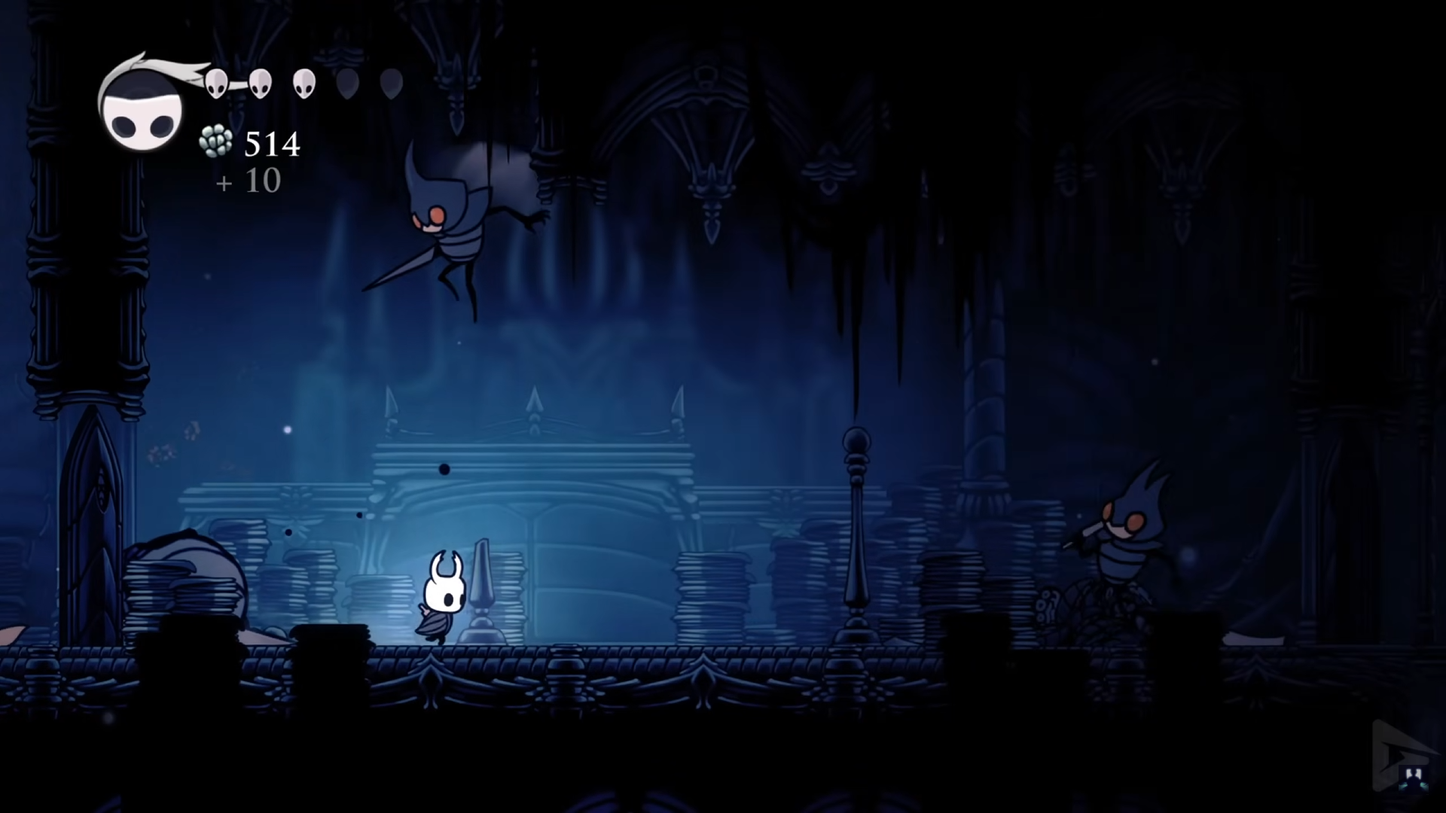HK: (412, 548, 472, 646)
